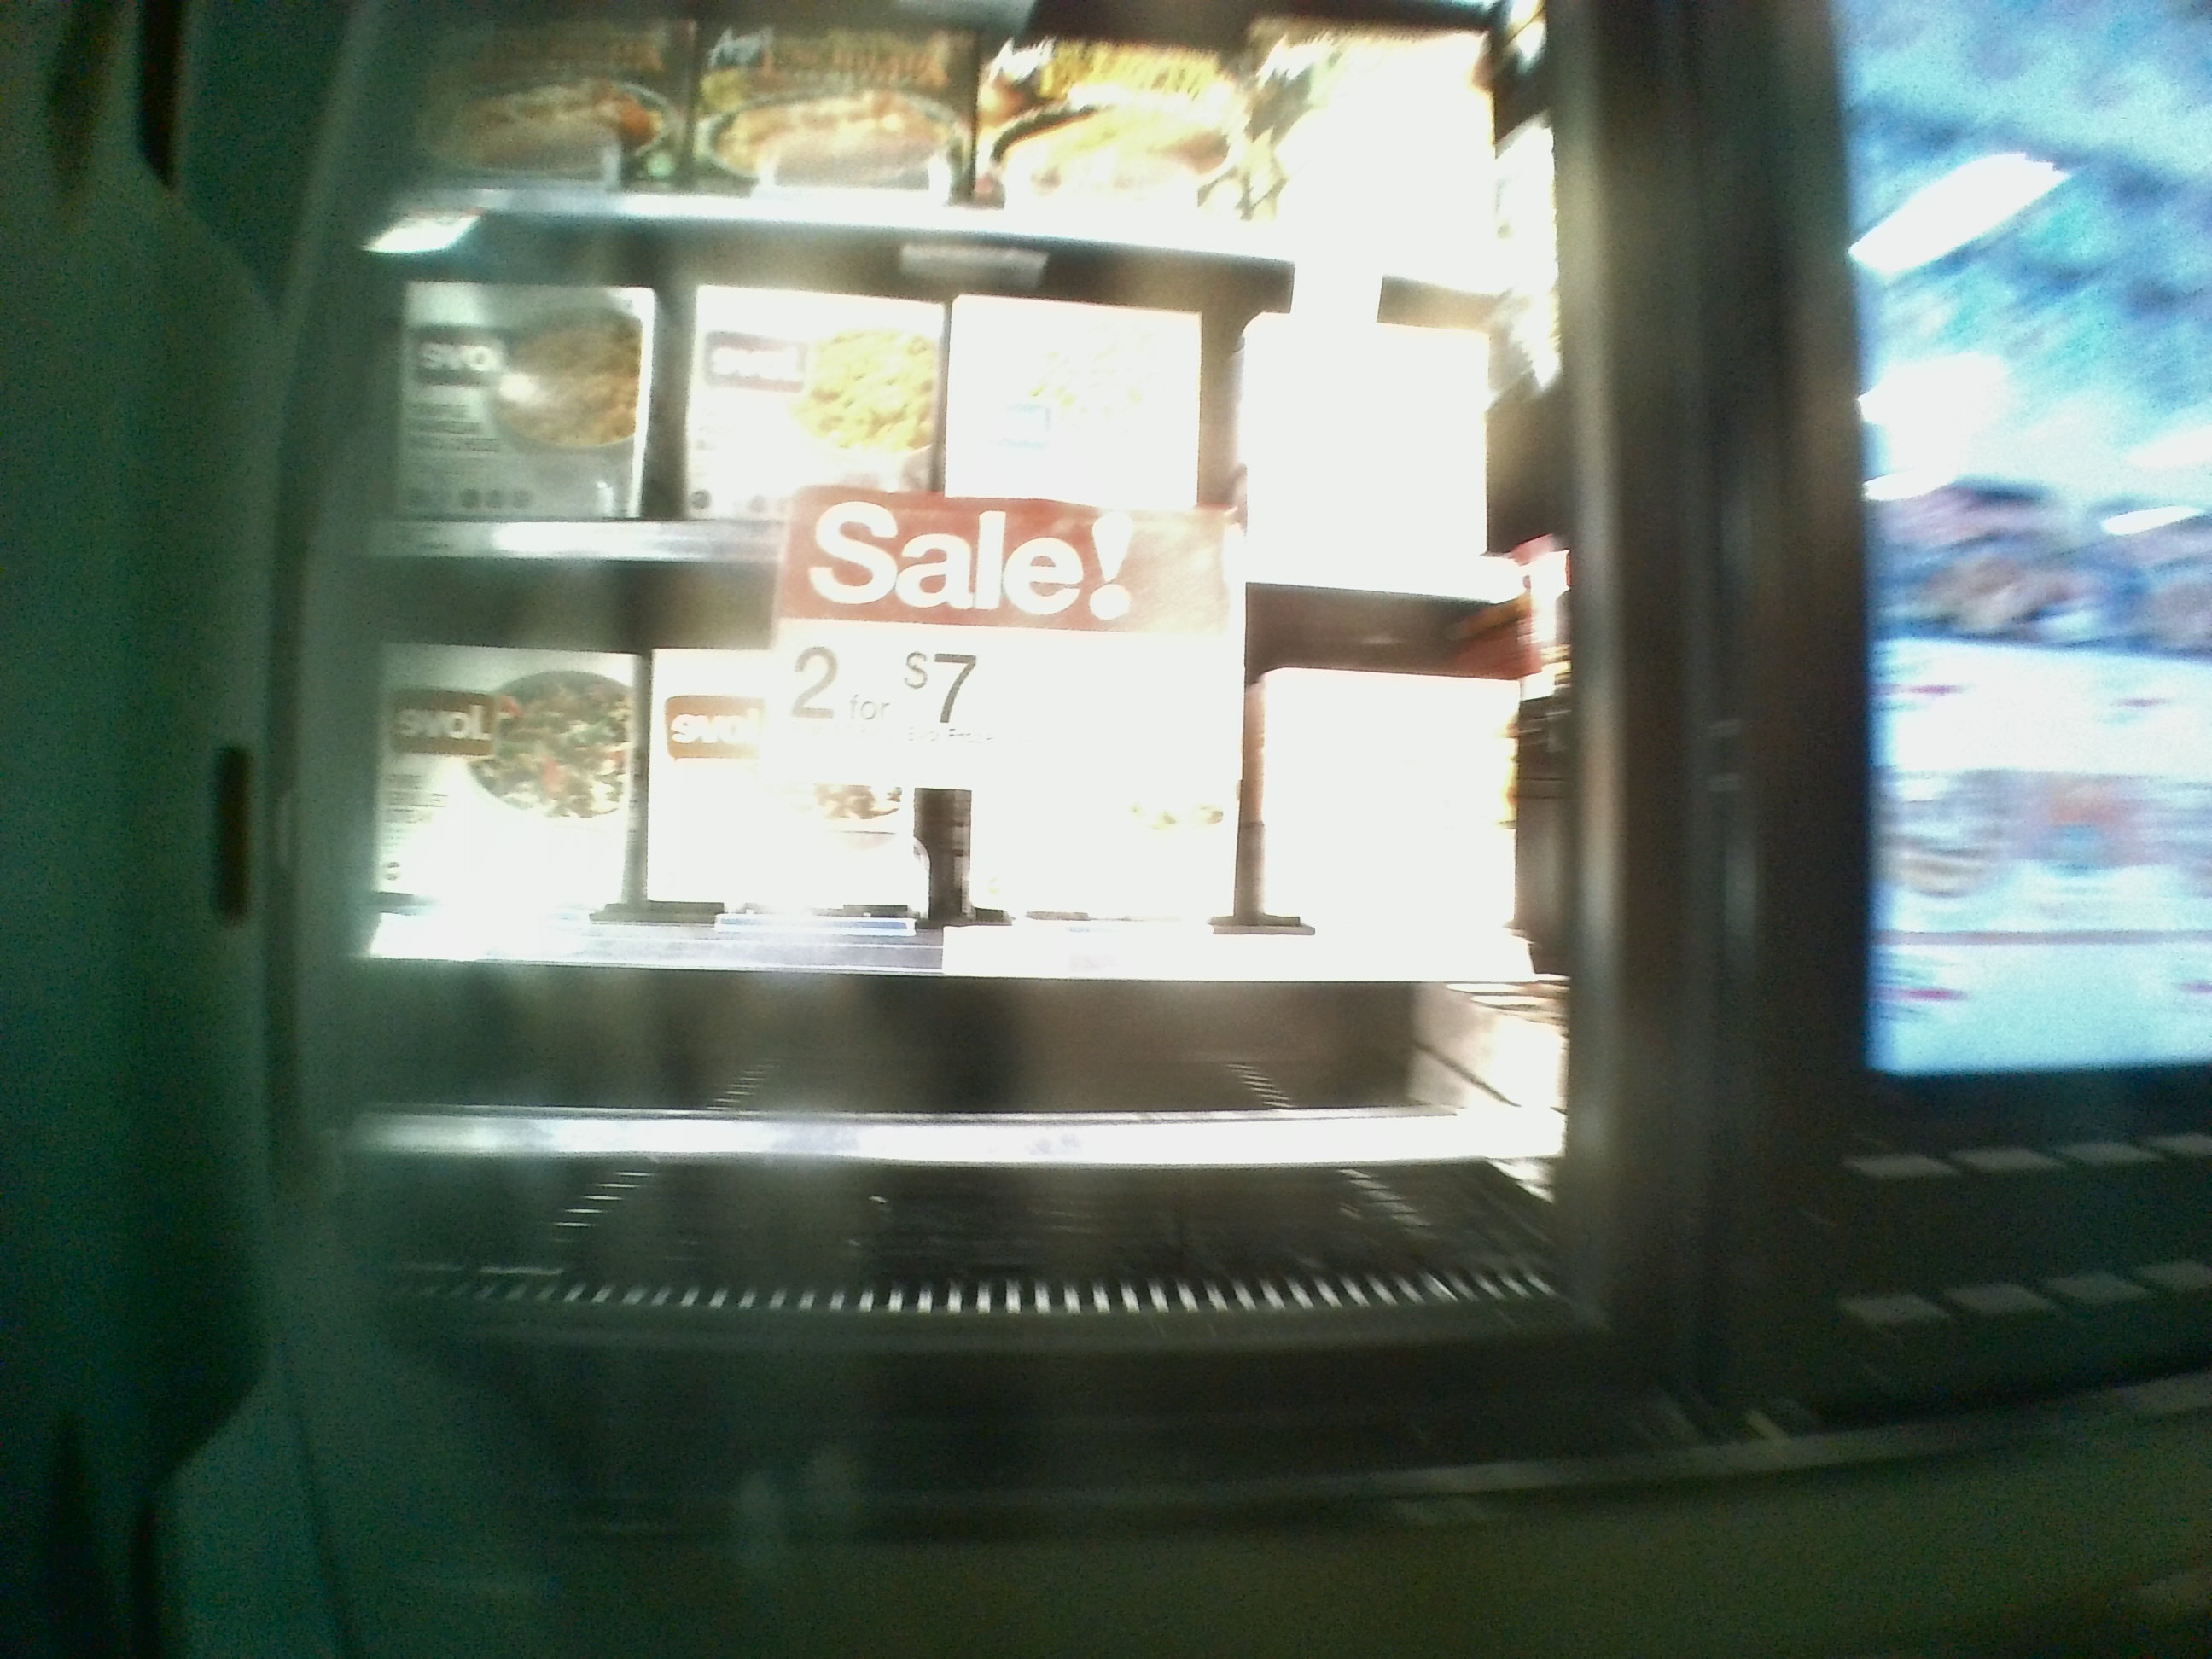shelf: (371, 584, 1554, 981), (371, 962, 1566, 1302), (359, 258, 1552, 584)
